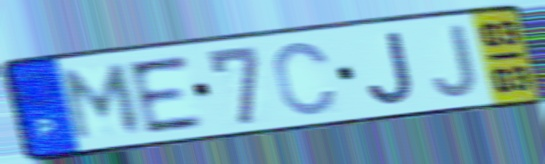7: (202, 44, 263, 127)
C: (270, 39, 340, 118)
E: (123, 51, 208, 137)
J: (365, 28, 417, 107), (430, 21, 481, 100)
M: (60, 61, 145, 144)
